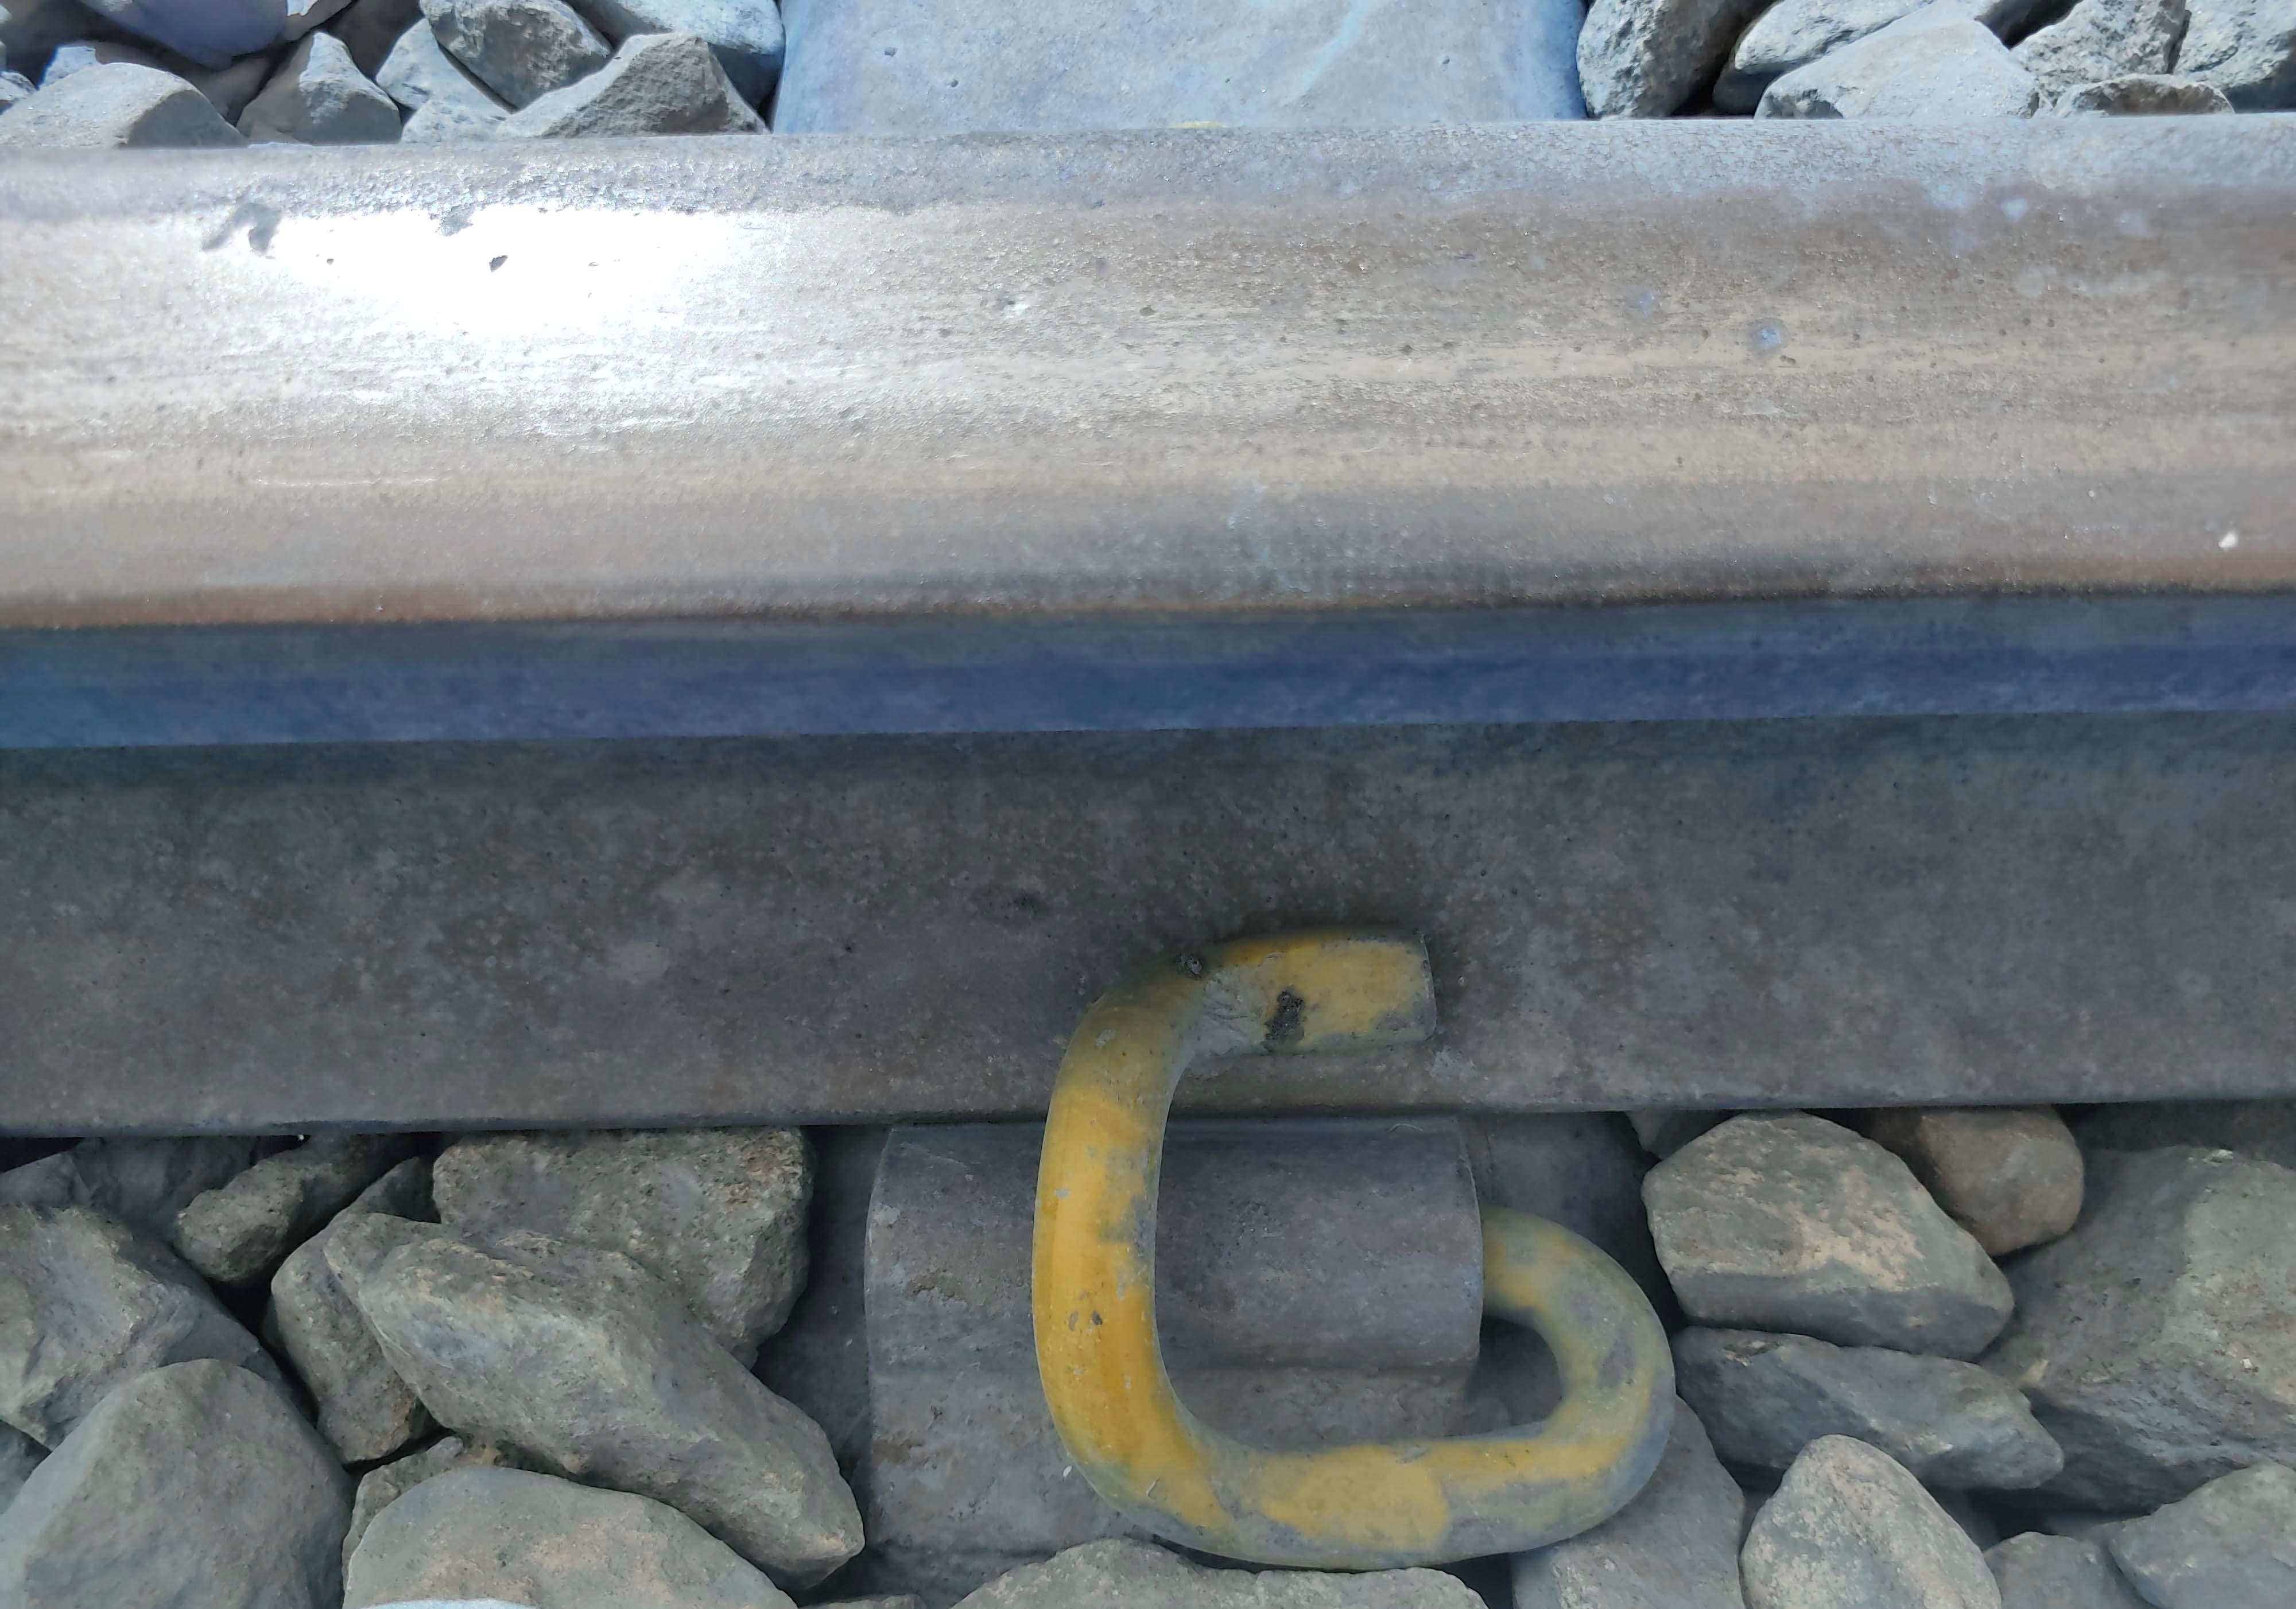error1: (937, 856, 1710, 1560)
